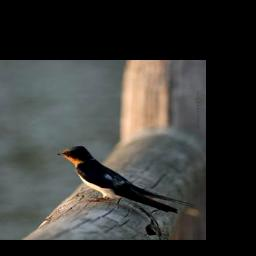Swallow: (53, 142, 198, 214)
